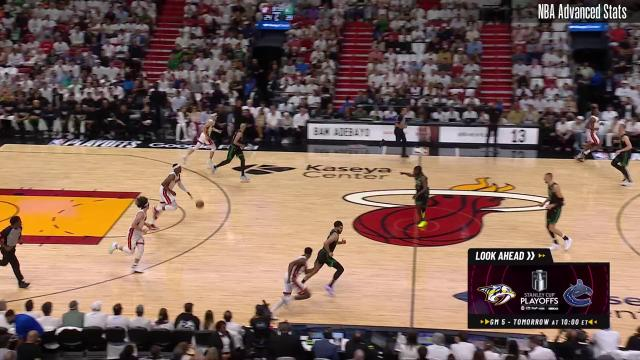b_sx: (1, 141, 11, 149)
free_adx: (93, 241, 101, 251)
free_asx: (136, 190, 146, 196)
half_dx: (404, 320, 420, 332)
half_sx: (414, 152, 428, 160)
mid_sx: (250, 147, 262, 157), (591, 157, 599, 163)
referee: (1, 215, 32, 289), (386, 108, 410, 160)
team: (110, 197, 150, 275), (270, 246, 312, 314), (151, 164, 193, 231), (184, 112, 218, 170), (579, 109, 601, 161)
team1: (305, 220, 347, 296), (540, 173, 574, 251), (220, 124, 250, 182), (406, 166, 432, 229), (612, 122, 634, 185)
